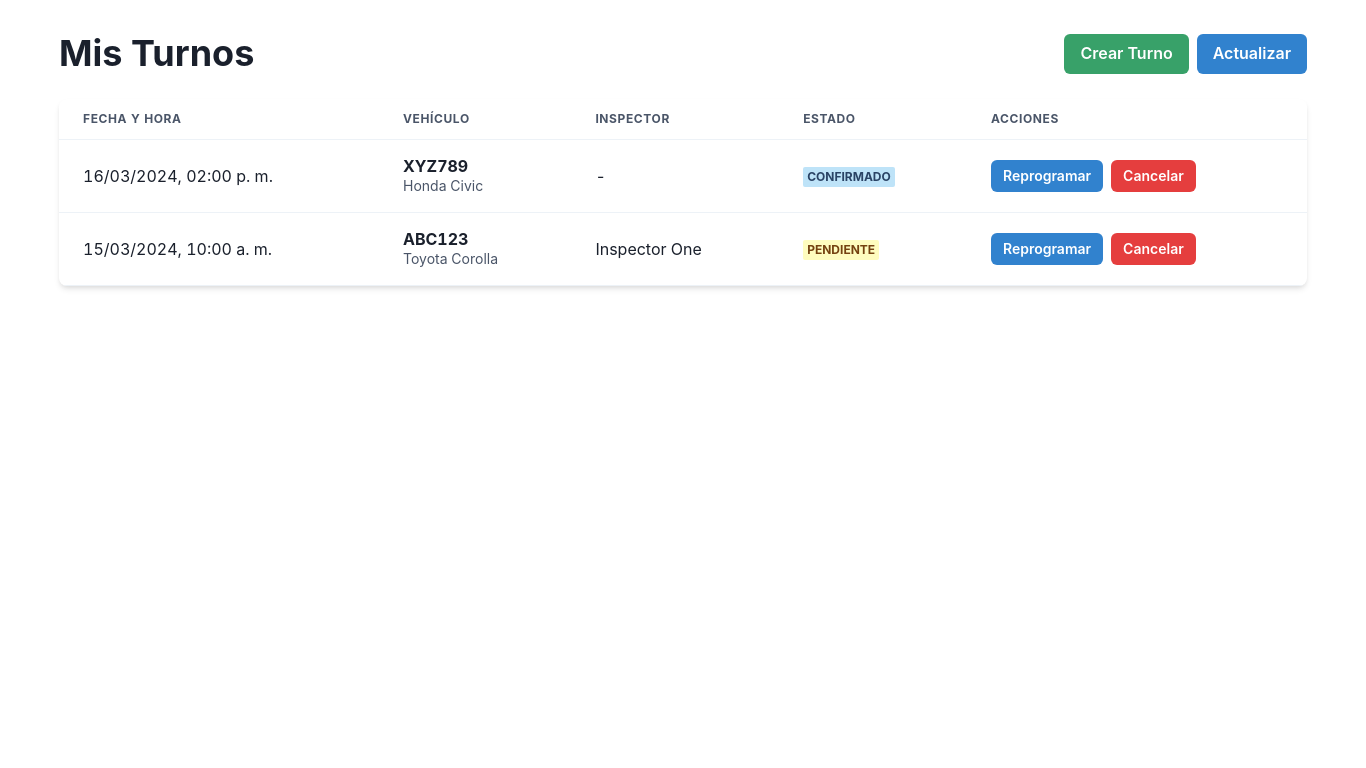
Test case: AppointmentManagementPage › as CLIENT › should show slot selector when CLIENT edits appointment
Check: the text "ABC123" is shown, box [403,229,468,249]
# Click reprogramar button
Click the button "Reprogramar" in the row of "16/03/2024, 02:00 p. m.": (1047, 176) [991,160,1103,192]
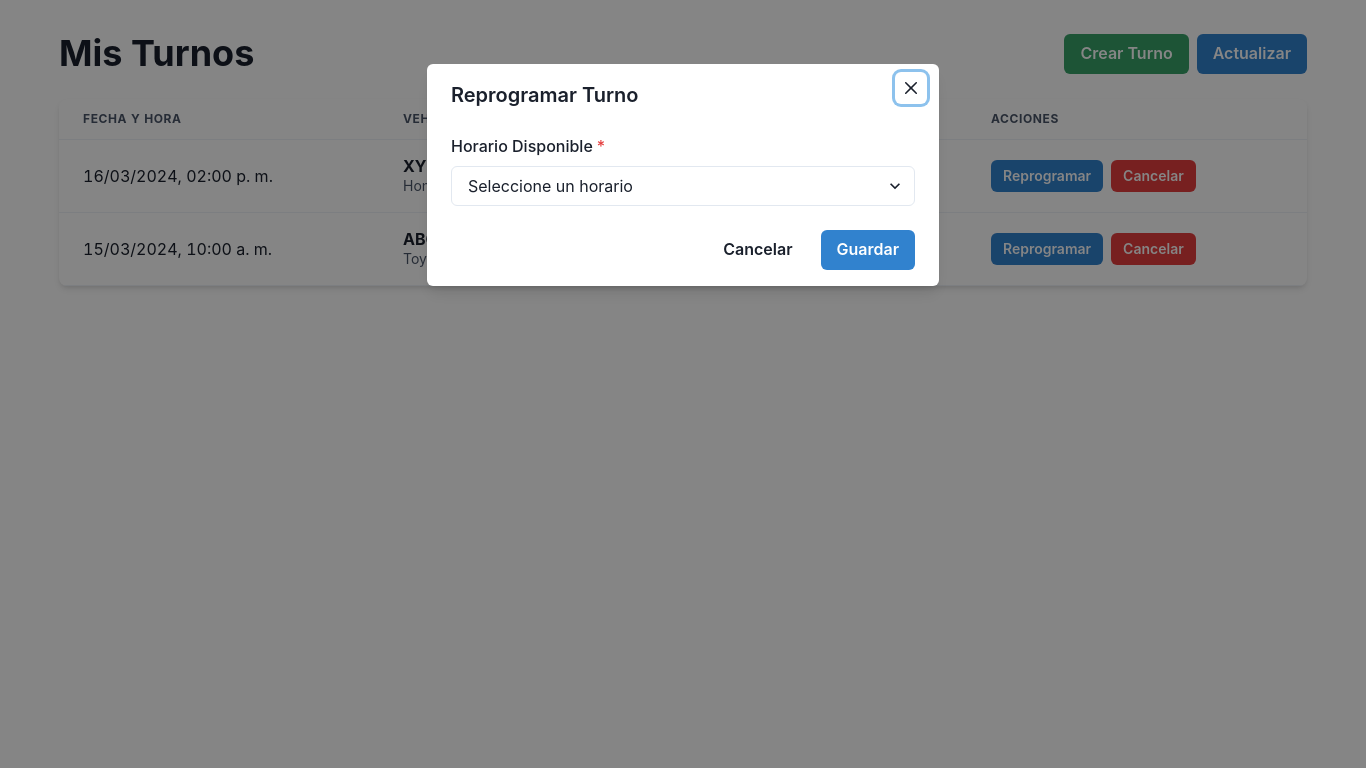
Check: the dropdown labelled "Horario Disponible*" is shown, box [451,166,915,206]
